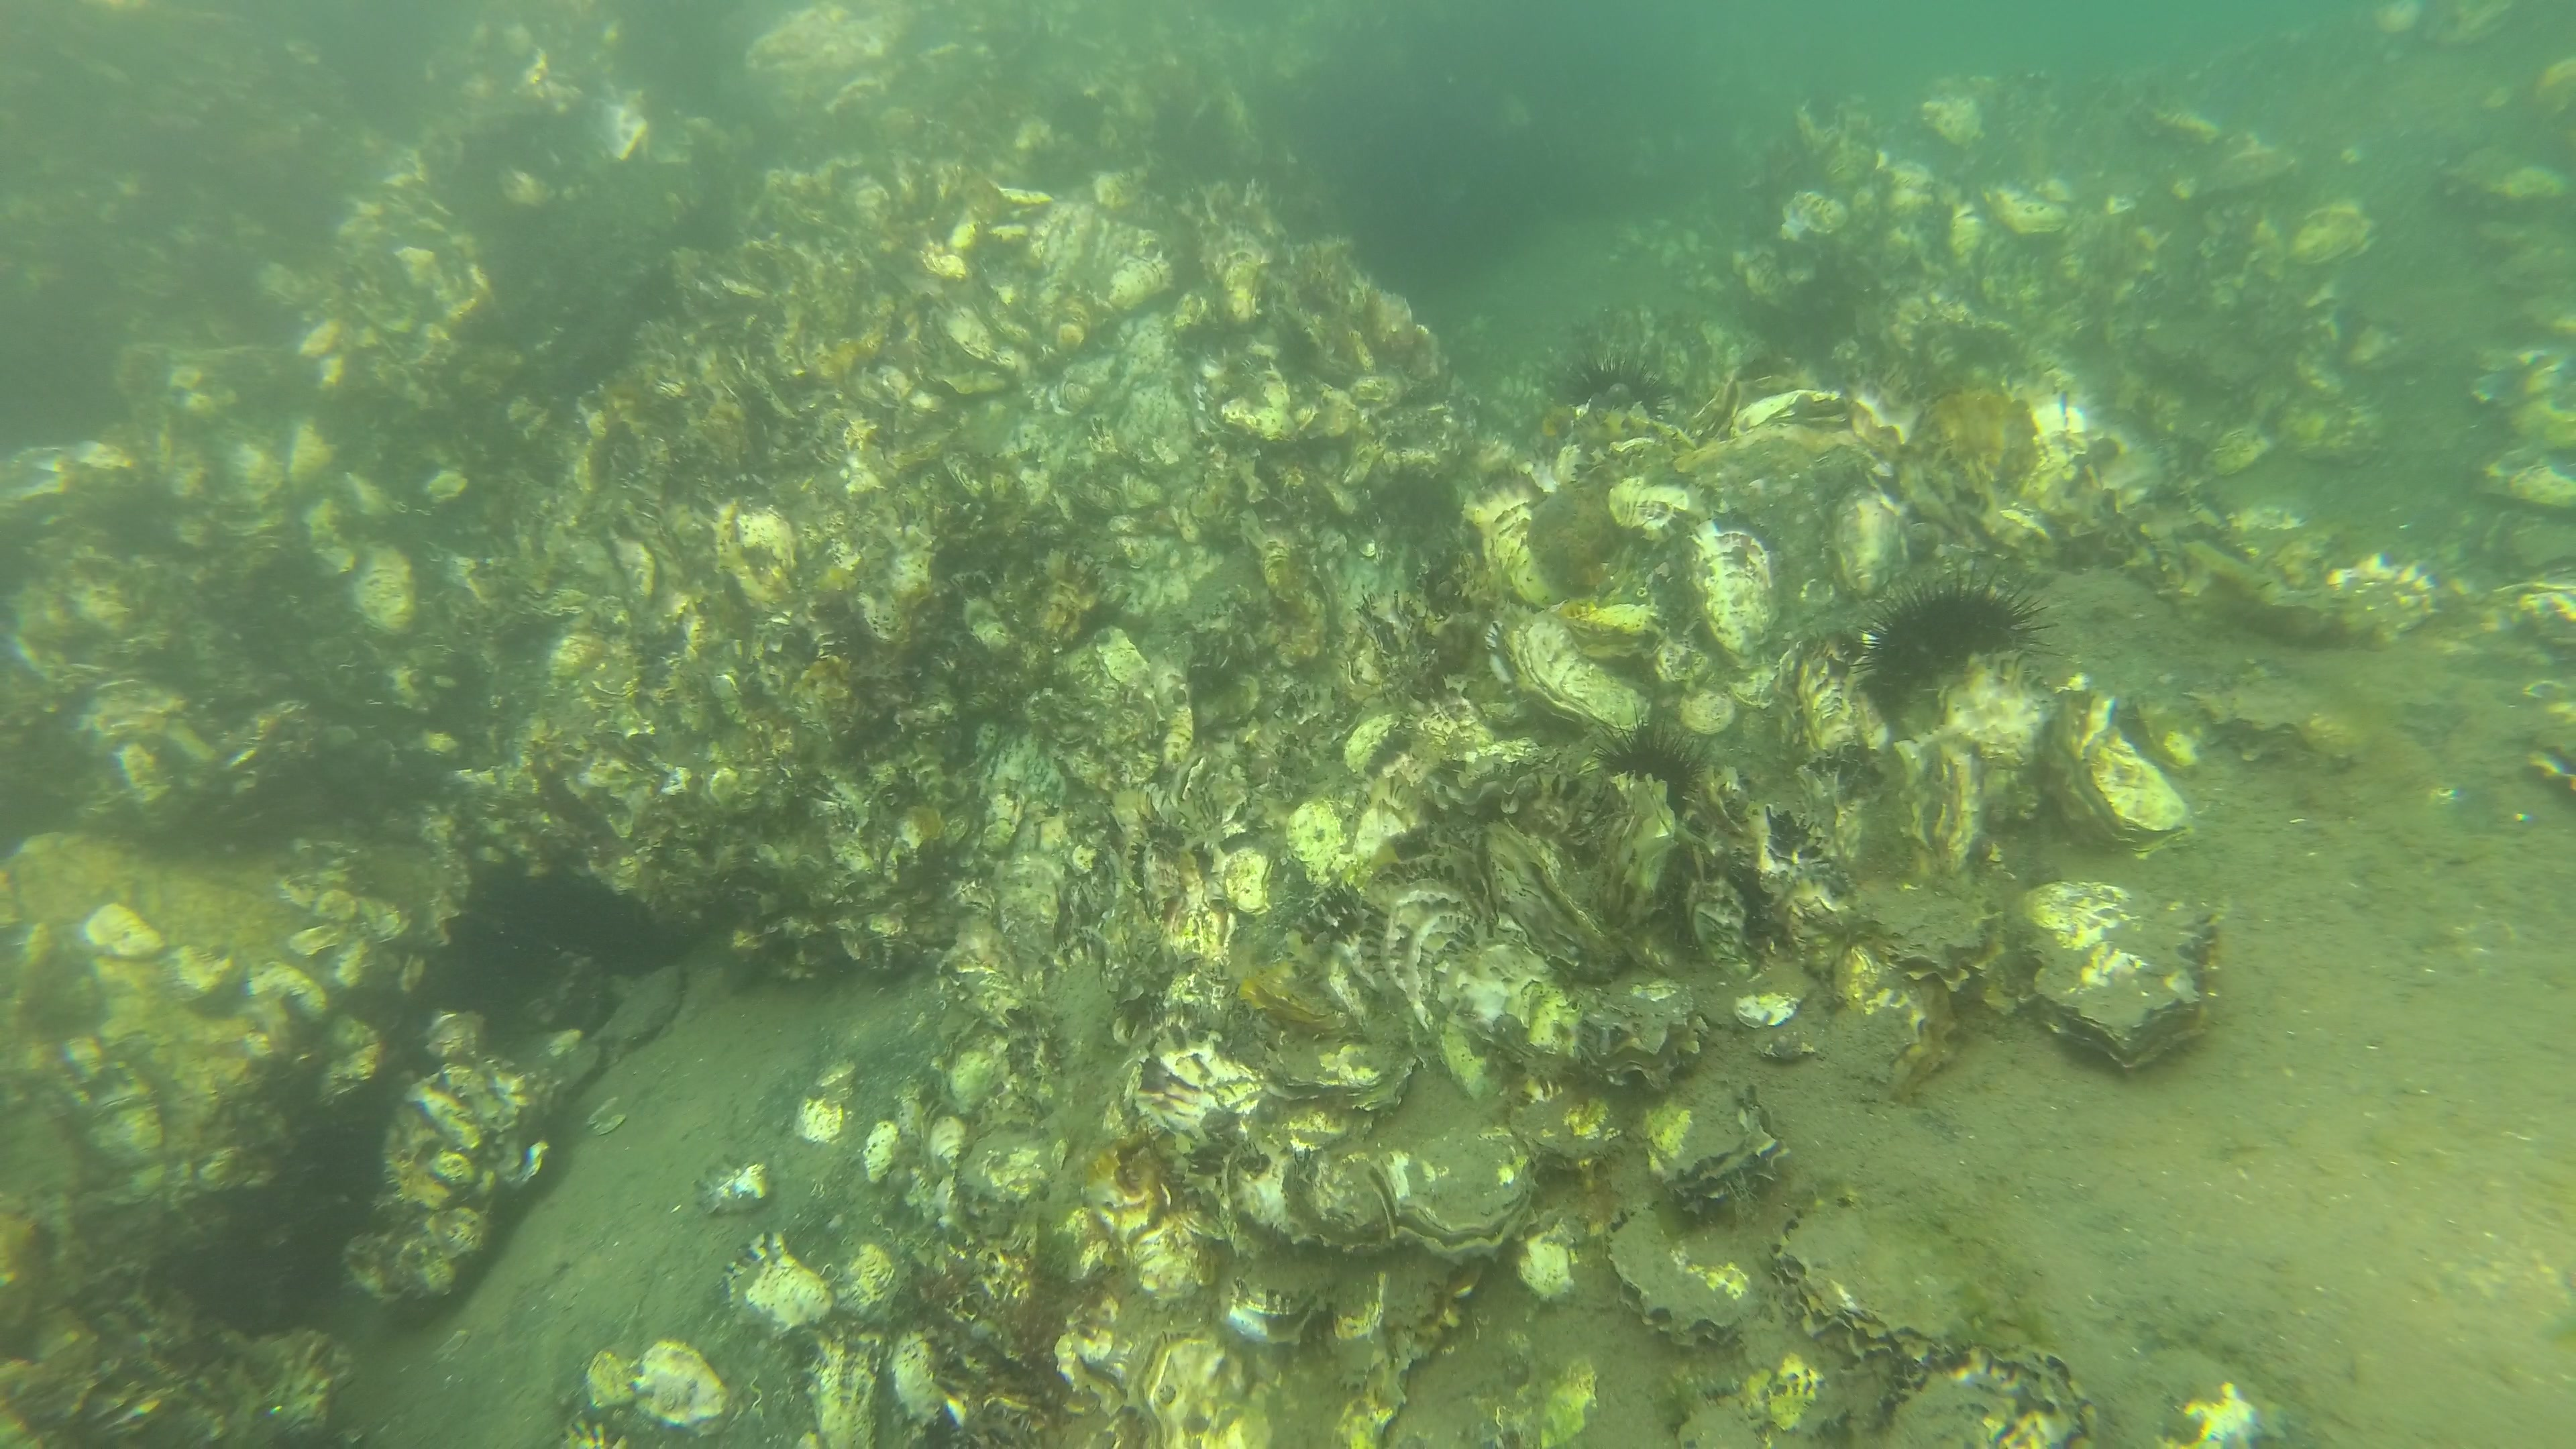echinus: (1854, 564, 2061, 701), (1598, 718, 1704, 810), (1559, 356, 1675, 414)
